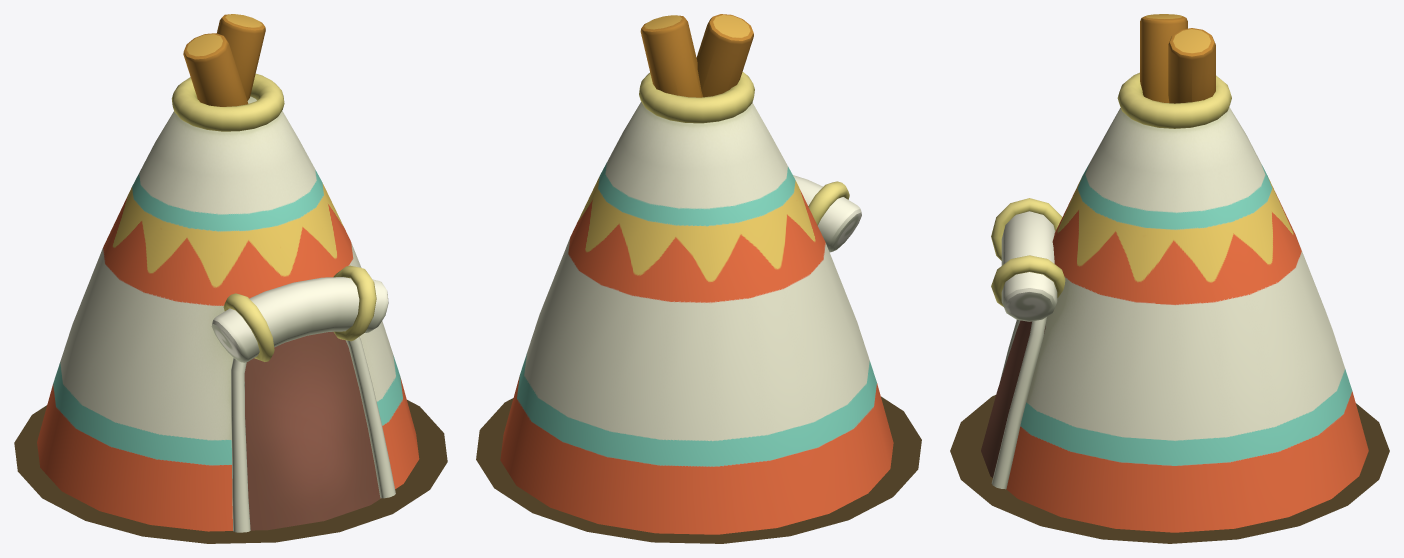
File: Pir_Tent.fbx
3 views of the same model, side by side, from view 1: azimuth 30°, elevation 25°; view 2: azimuth 150°, elevation 25°; view 3: azimuth 270°, elevation 25° (orthographic). The views are drawn at different scales.
Visible parts, largest first — view 1: polySurface3, polySurface1; view 2: polySurface3, polySurface1; view 3: polySurface3, polySurface1.
Boxes of the visible parts, x1,y1,x2,y2 form: polySurface3: (37, 14, 419, 532); polySurface1: (14, 400, 447, 543); polySurface3: (500, 14, 893, 534); polySurface1: (476, 396, 921, 543); polySurface3: (981, 14, 1368, 532); polySurface1: (950, 395, 1389, 543).
Bounding box in the file's own units: 327 × 349 × 327.
